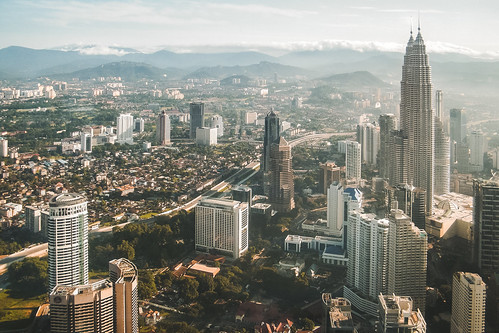building: (347, 215, 427, 320), (48, 259, 143, 333), (403, 35, 435, 225), (47, 191, 91, 292), (469, 180, 499, 298), (196, 197, 250, 258), (263, 109, 292, 209), (325, 186, 358, 264), (448, 271, 488, 333), (330, 139, 362, 186), (356, 123, 379, 162), (448, 100, 466, 148), (74, 127, 98, 159), (186, 100, 206, 138), (466, 129, 486, 166), (113, 113, 137, 143), (375, 114, 396, 143), (154, 109, 170, 146), (207, 114, 224, 138), (198, 128, 219, 145)
sky: (10, 1, 479, 55)
